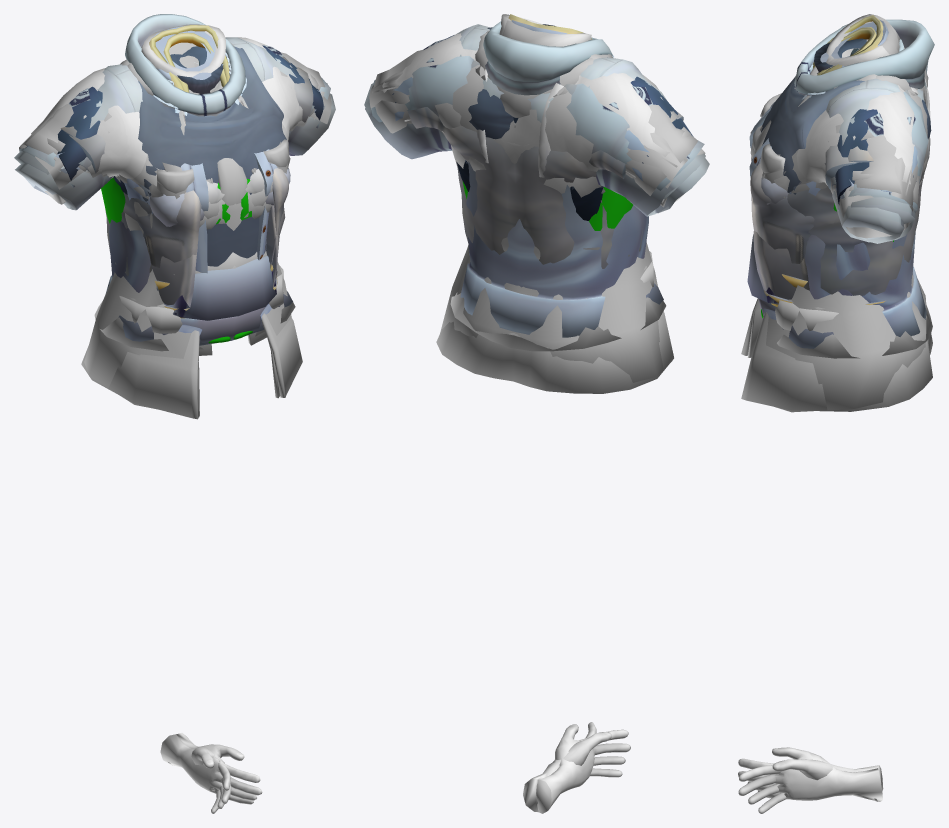
File: Personajes_vr.fbx
3 renders of one model, left to right at view 1: azimuth 30°, elevation 25°; view 2: azimuth 150°, elevation 25°; view 3: azimuth 270°, elevation 25°, orthographic. The views are drawn at different scales.
Visible parts, largest first — view 1: BDY_M_01.mocho, BDY_M_09.mocho, BDY_F_03.mocho, BDY_M_04.mocho, BDY_M_03.mocho, BDY_F_08.mocho, BDY_M_08.mocho, BDY_M_10.mocho, BDY_M_11.mocho, MANO_DER_MOCHOS, BDY_F_11.mocho, BDY_F_02.mocho (+11 smaller); view 2: BDY_M_01.mocho, BDY_M_08.mocho, BDY_M_03.mocho, BDY_F_03.mocho, BDY_M_04.mocho, BDY_M_05.mocho, BDY_M_11.mocho, BDY_M_14.mocho, MANOS_IZQ_MOCHOS, MANO_DER_MOCHOS, BDY_F_02.mocho, BDY_M_10.mocho (+4 smaller); view 3: BDY_M_01.mocho, BDY_M_03.mocho, BDY_M_08.mocho, BDY_F_03.mocho, BDY_M_04.mocho, BDY_F_08.mocho, MANOS_IZQ_MOCHOS, BDY_M_09.mocho, BDY_M_11.mocho, BDY_F_02.mocho, BDY_M_05.mocho, MANO_DER_MOCHOS (+8 smaller).
Part boxes in pixels (<box>): BDY_M_01.mocho: <box>19,14,330,345</box>; BDY_M_09.mocho: <box>53,47,324,266</box>; BDY_F_03.mocho: <box>78,108,314,419</box>; BDY_M_04.mocho: <box>31,24,318,186</box>; BDY_M_03.mocho: <box>84,203,291,417</box>; BDY_F_08.mocho: <box>69,32,313,289</box>; BDY_M_08.mocho: <box>60,25,308,318</box>; BDY_M_10.mocho: <box>57,26,323,194</box>; BDY_M_11.mocho: <box>14,37,332,290</box>; MANO_DER_MOCHOS: <box>160,734,262,804</box>; BDY_F_11.mocho: <box>15,94,335,210</box>; BDY_F_02.mocho: <box>94,139,295,351</box>; BDY_M_01.mocho: <box>371,21,704,337</box>; BDY_M_08.mocho: <box>408,14,678,268</box>; BDY_M_03.mocho: <box>440,242,672,382</box>; BDY_F_03.mocho: <box>436,311,673,393</box>; BDY_M_04.mocho: <box>382,14,690,197</box>; BDY_M_05.mocho: <box>372,32,697,298</box>; BDY_M_11.mocho: <box>364,24,705,216</box>; BDY_M_14.mocho: <box>369,65,705,207</box>; MANOS_IZQ_MOCHOS: <box>523,729,630,812</box>; MANO_DER_MOCHOS: <box>536,722,596,813</box>; BDY_F_02.mocho: <box>450,292,666,351</box>; BDY_M_10.mocho: <box>392,20,693,220</box>; BDY_M_01.mocho: <box>747,19,934,336</box>; BDY_M_03.mocho: <box>747,72,926,412</box>; BDY_M_08.mocho: <box>753,15,928,306</box>; BDY_F_03.mocho: <box>741,98,932,411</box>; BDY_M_04.mocho: <box>784,14,923,186</box>; BDY_F_08.mocho: <box>750,27,876,287</box>; MANOS_IZQ_MOCHOS: <box>738,747,882,801</box>; BDY_M_09.mocho: <box>761,76,931,198</box>; BDY_M_11.mocho: <box>826,24,926,243</box>; BDY_F_02.mocho: <box>760,93,932,358</box>; BDY_M_05.mocho: <box>788,67,928,309</box>; MANO_DER_MOCHOS: <box>738,759,883,813</box>.
Size of the model in its own units: 69.01 by 157 by 36.08.
